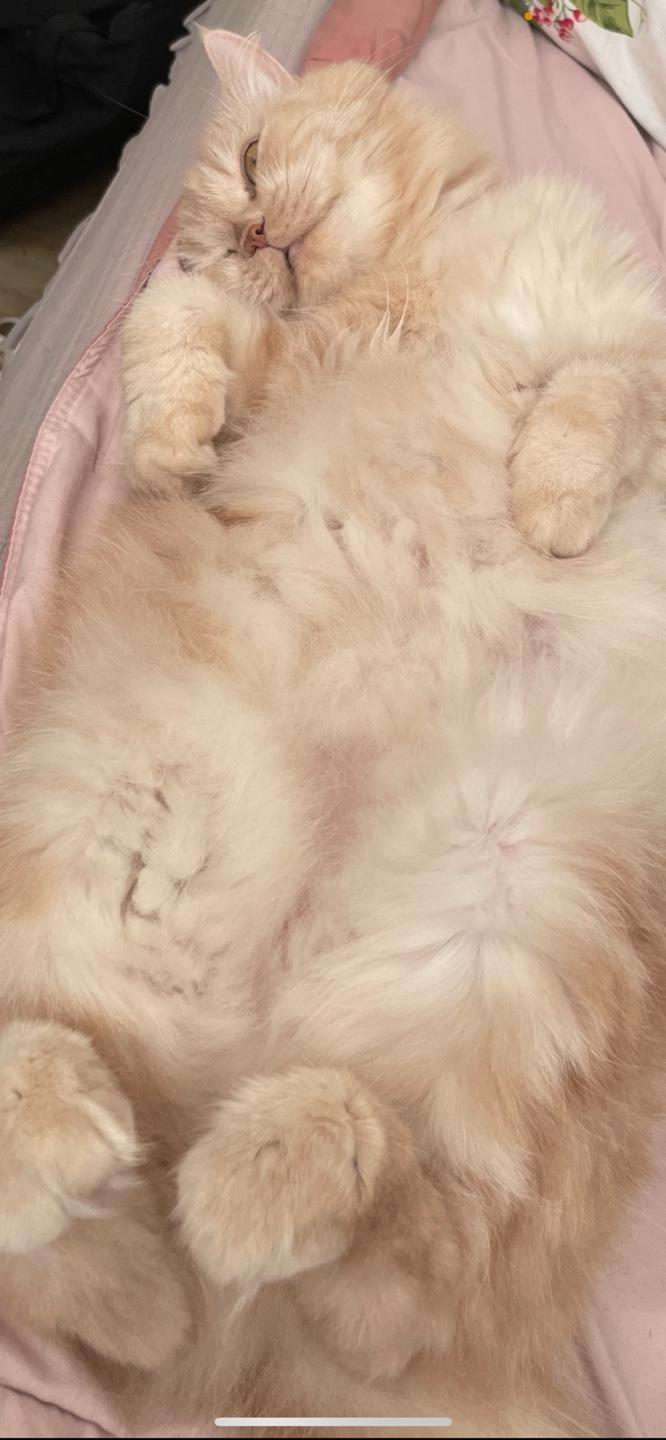cat: (2, 24, 663, 1430)
